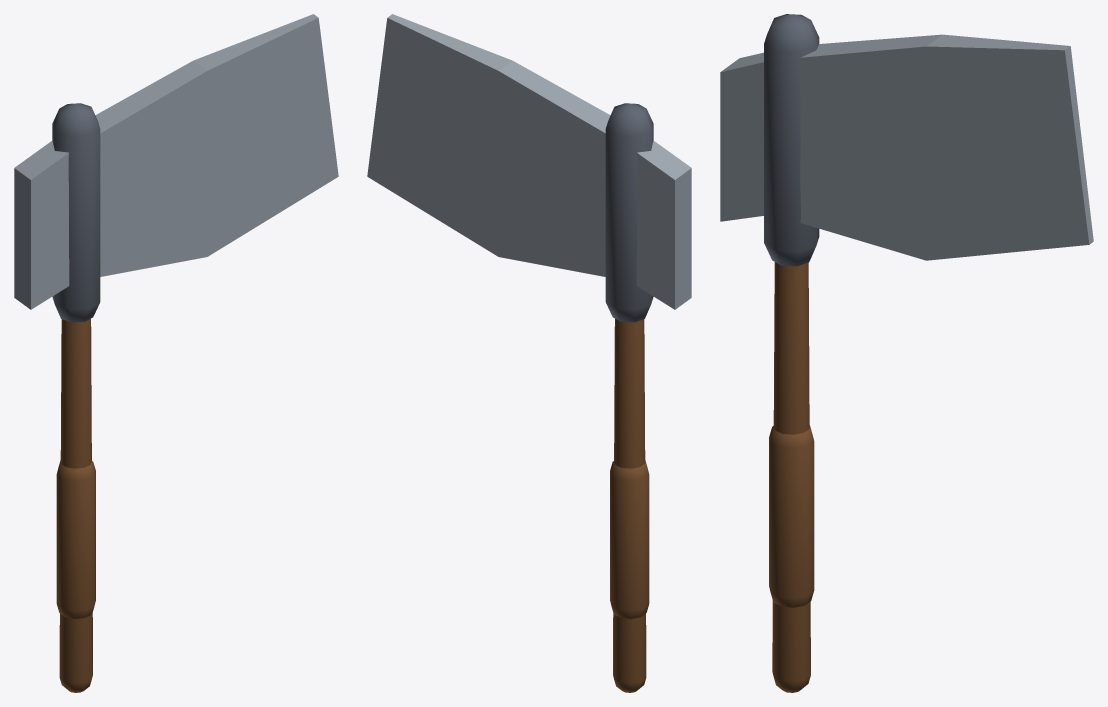
File: axe.glb
3 renders of one model, left to right at view 1: azimuth 30°, elevation 25°; view 2: azimuth 150°, elevation 25°; view 3: azimuth 330°, elevation 25°, orthographic. The views are drawn at different scales.
Parts seen in each view (by area): view 1: steel, wood, steeldark; view 2: steel, wood, steeldark; view 3: steel, wood, steeldark.
Boxes of the visible parts, x1,y1,x2,y2 form: steel: (14, 14, 338, 309); wood: (56, 318, 95, 692); steeldark: (52, 103, 100, 322); steel: (367, 14, 691, 309); wood: (610, 318, 649, 692); steeldark: (605, 103, 653, 322); steel: (720, 34, 1093, 260); wood: (769, 262, 814, 692); steeldark: (764, 14, 819, 266).
Size of the model in its own units: 0.76 by 1.43 by 0.104.
